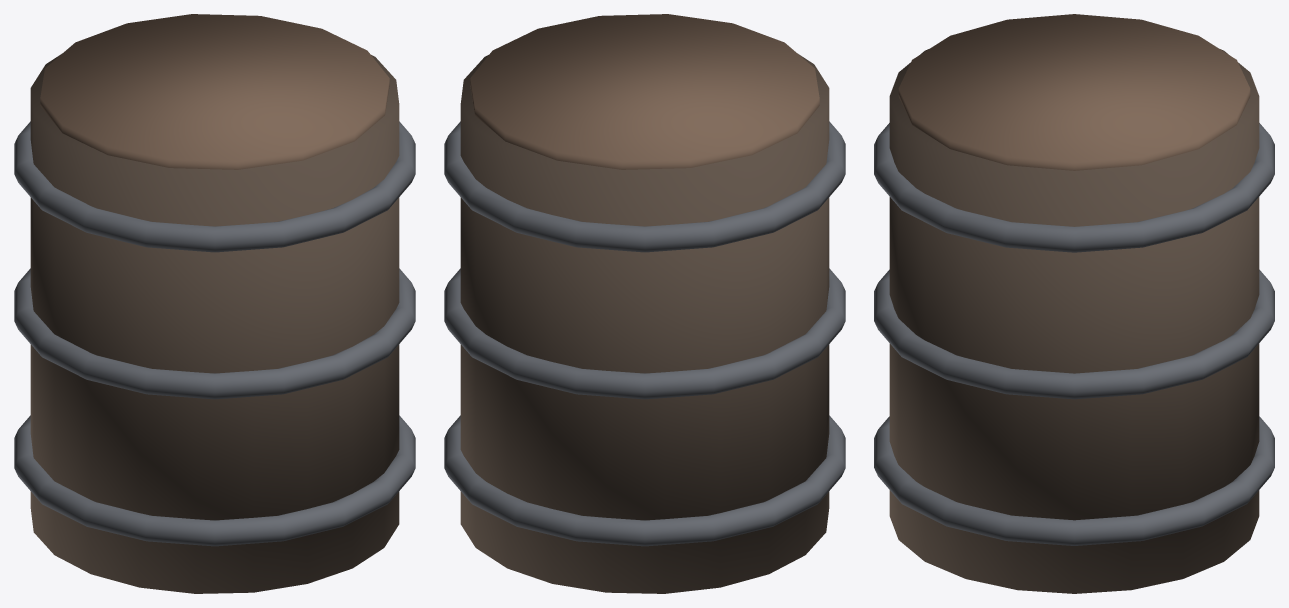
Rendered from prop_taru.glb.
3 renders of one model, left to right at view 1: azimuth 30°, elevation 25°; view 2: azimuth 150°, elevation 25°; view 3: azimuth 270°, elevation 25°, orthographic.
Visible parts, largest first — view 1: taru; view 2: taru; view 3: taru.
Part boxes in pixels (box(x1,y1,x2,y2)): taru: box(14, 14, 415, 593); taru: box(444, 14, 845, 593); taru: box(874, 14, 1274, 593).
Size of the model in its own units: 0.88 by 1.02 by 0.8666.
